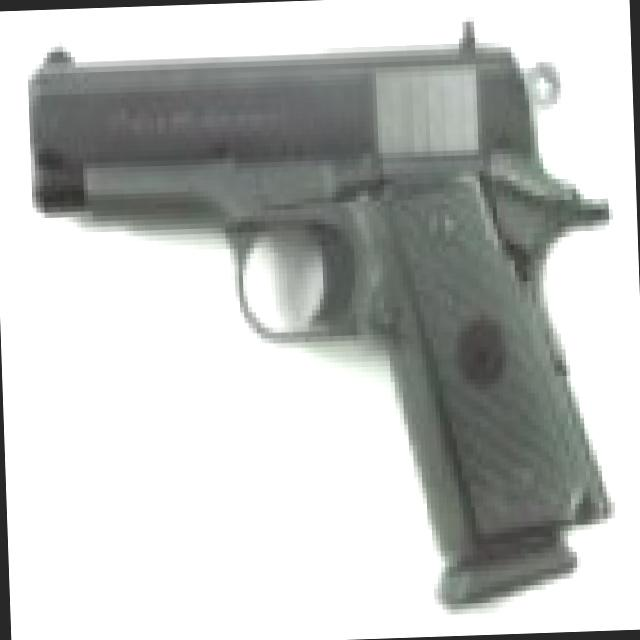handgun: (18, 11, 626, 624)
